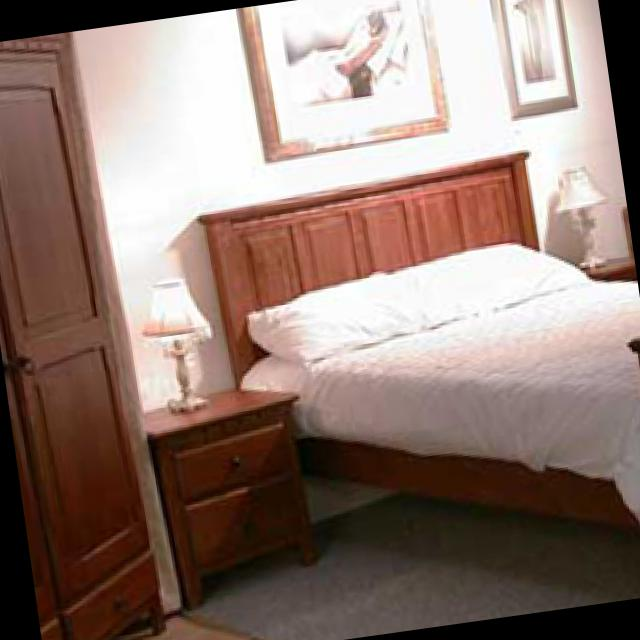bed -occluded-: (204, 141, 640, 524)
lamp crop: (140, 278, 215, 413), (559, 164, 616, 261)
night stand part: (149, 381, 320, 603)
painting crop: (246, 0, 454, 153), (493, 0, 582, 119)
pillow occluded: (255, 272, 460, 359), (404, 239, 594, 317)
rug -partially obscured-: (186, 491, 640, 640)
wardrobe: (0, 31, 166, 640)
